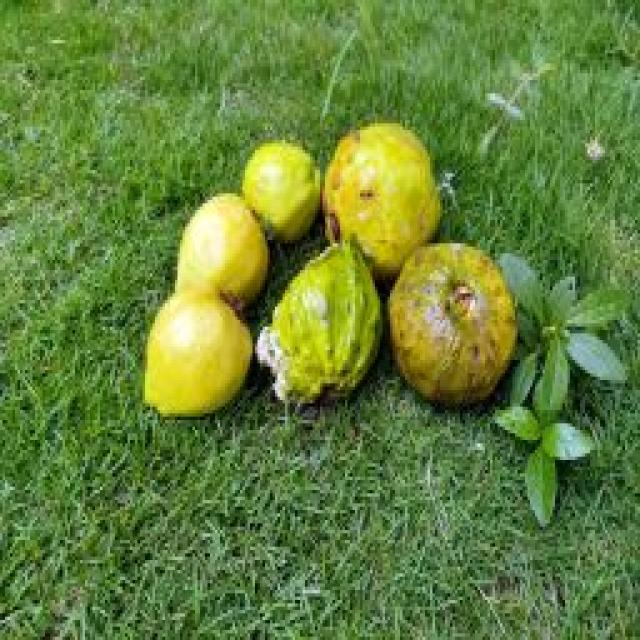Organik: (255, 246, 400, 424), (387, 234, 520, 420), (314, 117, 448, 264), (133, 284, 255, 431), (171, 194, 276, 326), (238, 126, 318, 238)
